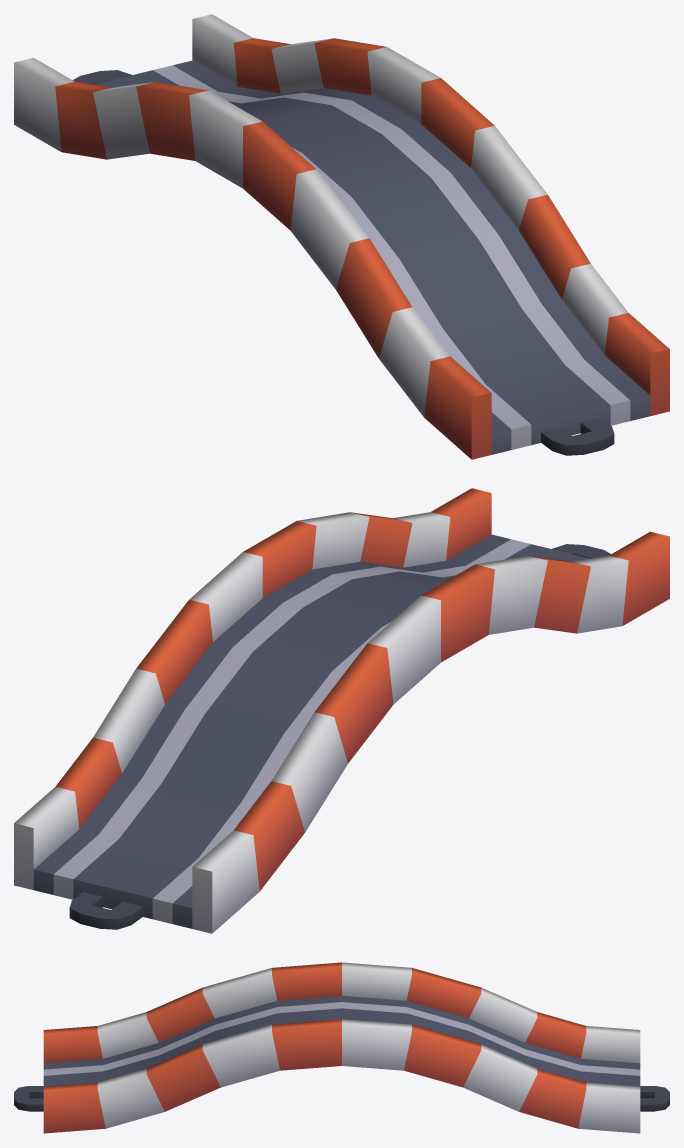
Rendered from track-road-narrow-straight-bump-up.glb.
The picture shows the model from 3 angles, top to bottom: view 1: azimuth 30°, elevation 25°; view 2: azimuth 150°, elevation 25°; view 3: azimuth 270°, elevation 25°; orthographic projection. The views are drawn at different scales.
Parts seen in each view (by area): view 1: track-road-narrow-straight-bump-up; view 2: track-road-narrow-straight-bump-up; view 3: track-road-narrow-straight-bump-up.
Boxes of the visible parts, x1,y1,x2,y2 form: track-road-narrow-straight-bump-up: (14, 14, 669, 459); track-road-narrow-straight-bump-up: (14, 488, 669, 933); track-road-narrow-straight-bump-up: (14, 962, 669, 1133).
Size of the model in its own units: 1 by 0.8 by 4.4.
